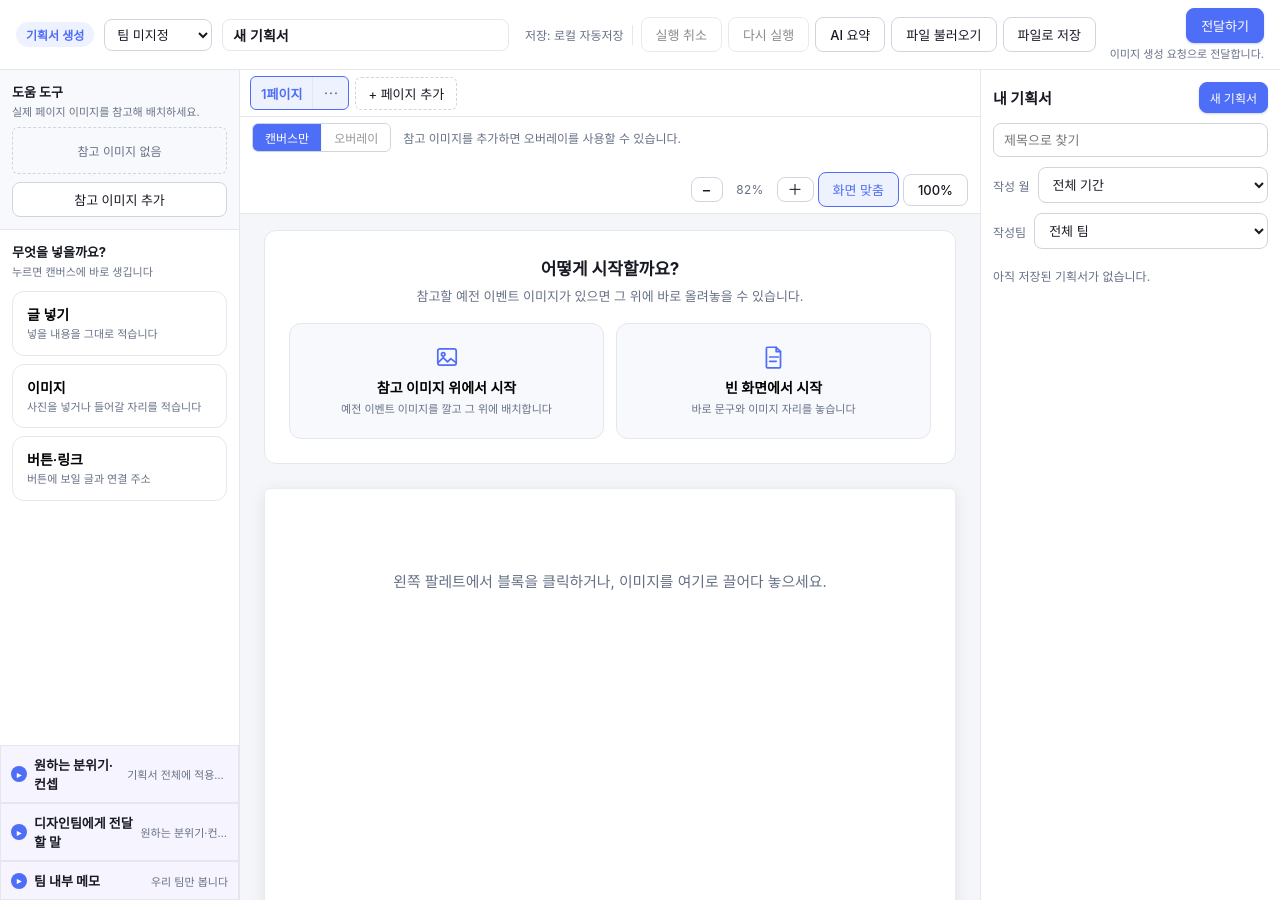
Test case: §2 어떤 형태의 기획서도 그대로 저장된다 › says so, briefly, once the file is written
Click the button "빈 화면에서 시작 바로 문구와 이미지 자리를 놓습니다" at (774, 381), box [616,323,931,438]
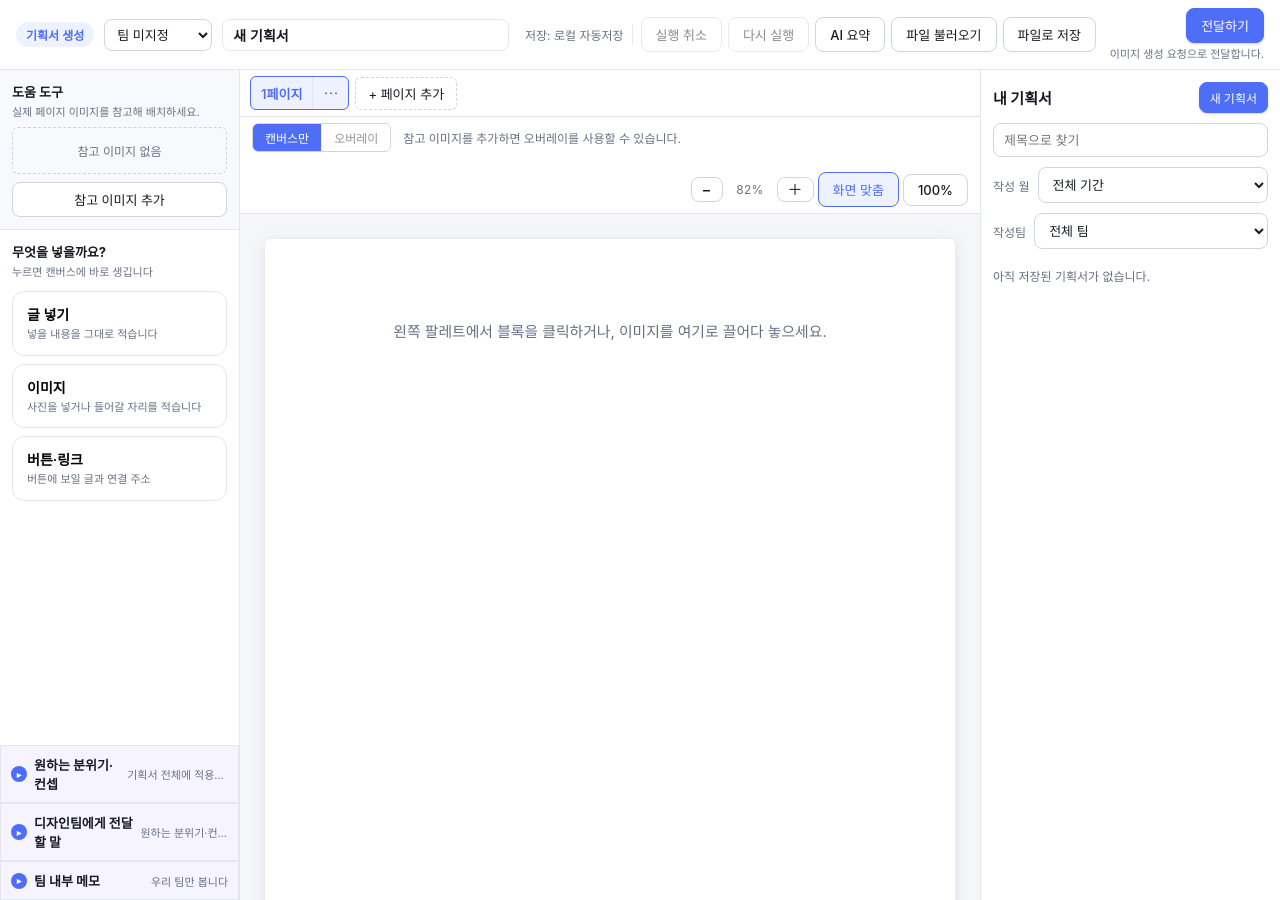
Click the button "파일로 저장" at (1049, 34), box [1003,17,1096,52]
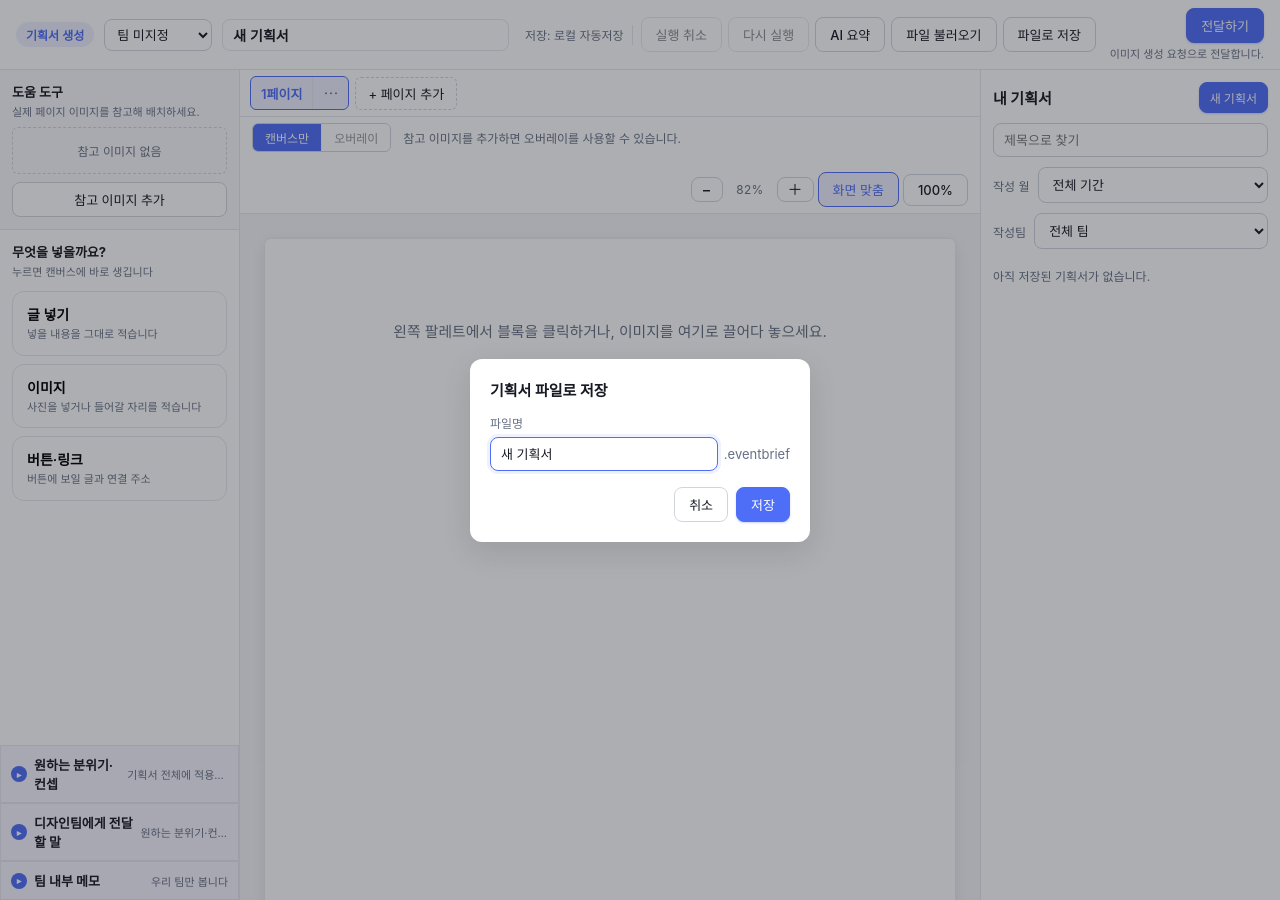
Click the button "저장" at (763, 504), box [736,486,790,522]
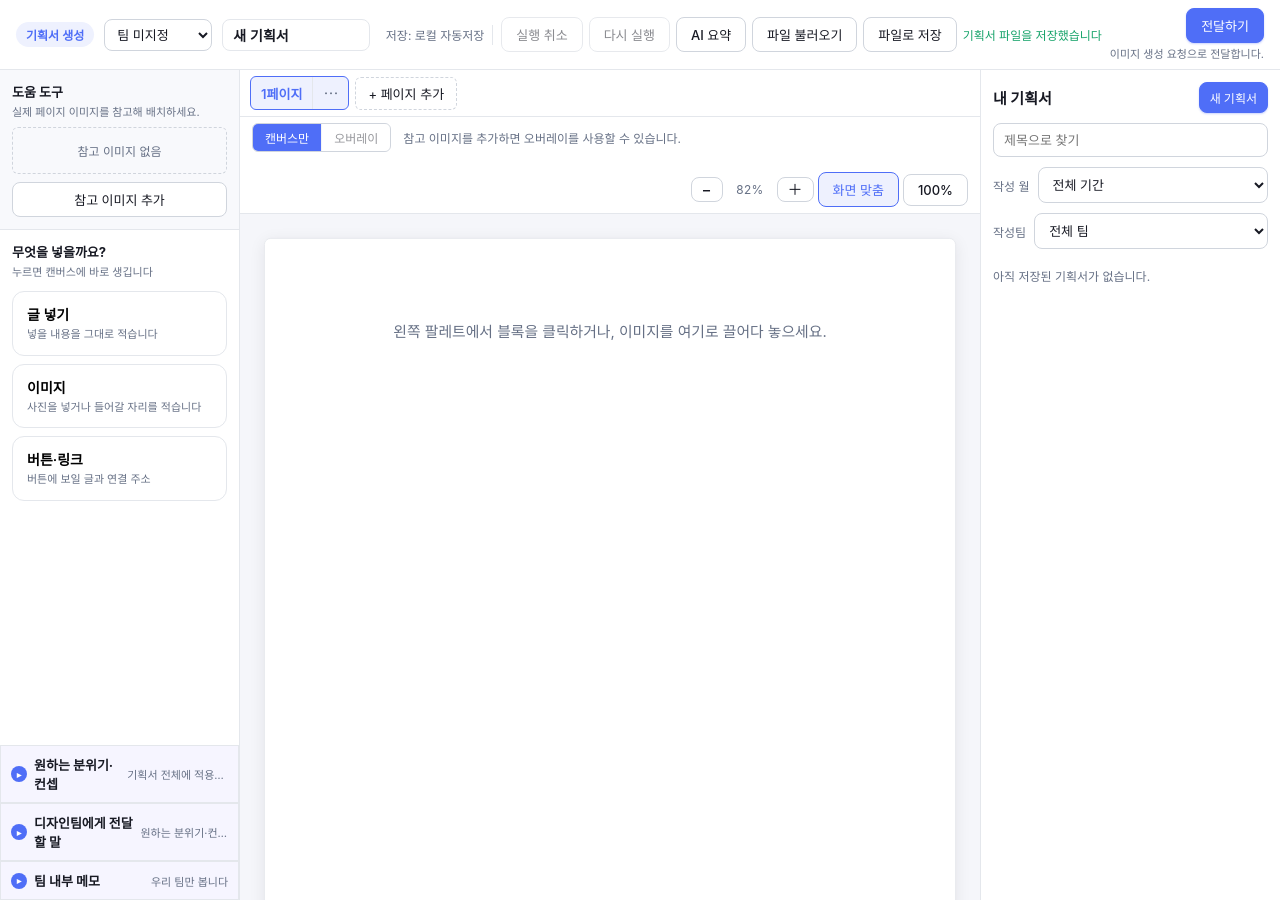
Expected: the text "기획서 파일을 저장했습니다" is shown, [963,26,1102,43]
